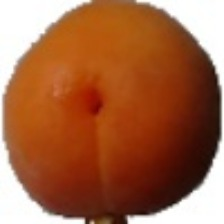apricot: (0, 2, 197, 195)
